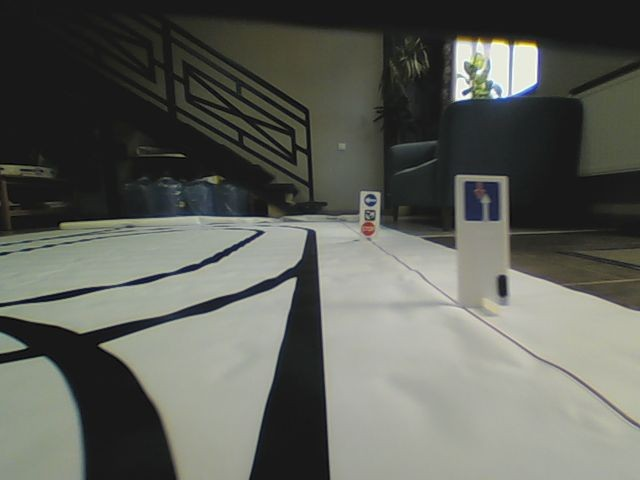priority_movement: (462, 178, 503, 224)
